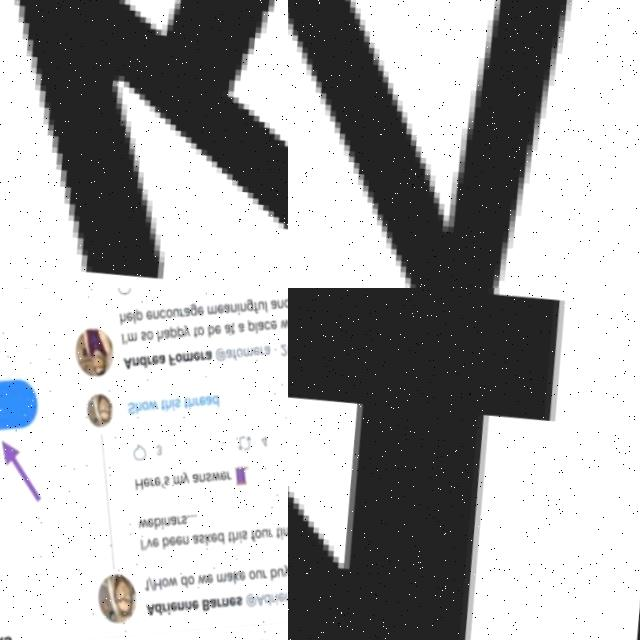0: (284, 343, 288, 358)
1: (140, 579, 147, 593)
2: (279, 345, 288, 359)
3: (152, 444, 161, 458)
4: (258, 436, 267, 450)
A: (288, 0, 640, 288)
K: (0, 0, 288, 288)
